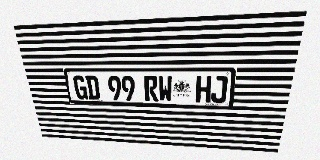9: (107, 76, 123, 100), (121, 76, 136, 101)
D: (85, 75, 100, 100)
G: (72, 75, 88, 99)
H: (195, 76, 212, 103)
J: (211, 76, 228, 103)
R: (144, 76, 158, 101)
W: (158, 76, 172, 102)
